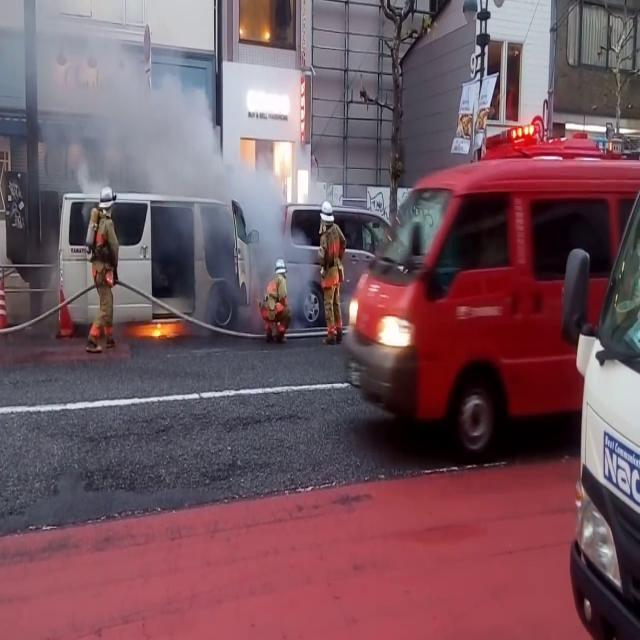Fire: (136, 310, 184, 342)
Smoke: (11, 4, 311, 324)
